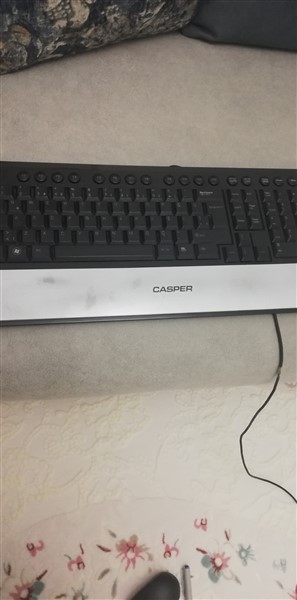klavye: (1, 159, 297, 325)
